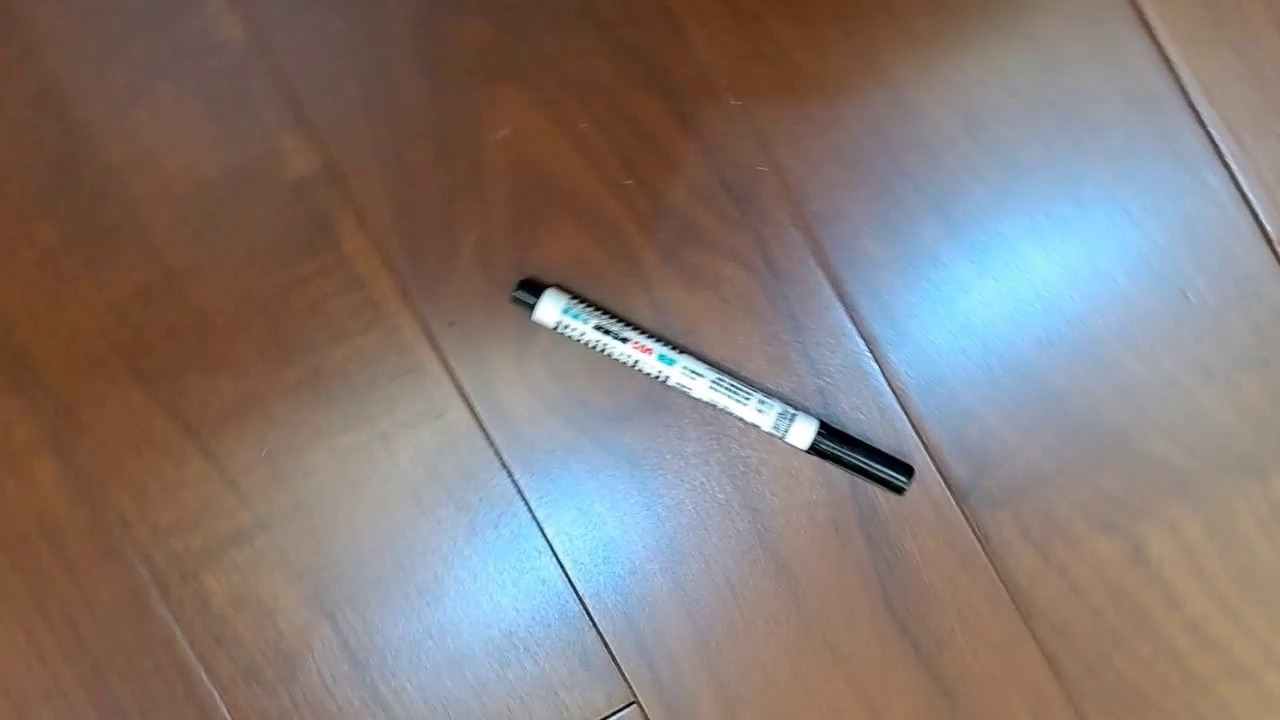pen: (508, 274, 916, 498)
